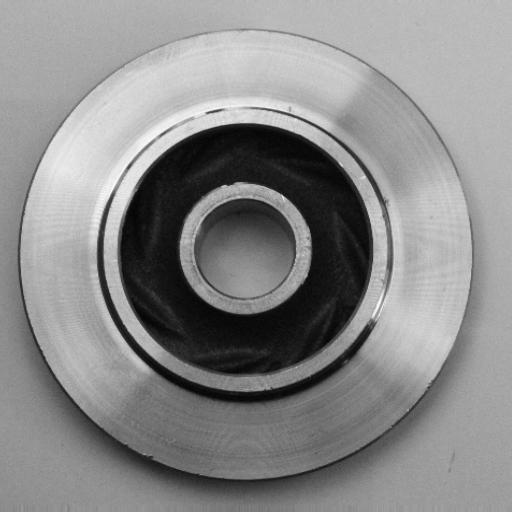scratch: (364, 267, 407, 332)
unpolished_casting: (19, 26, 475, 484)
